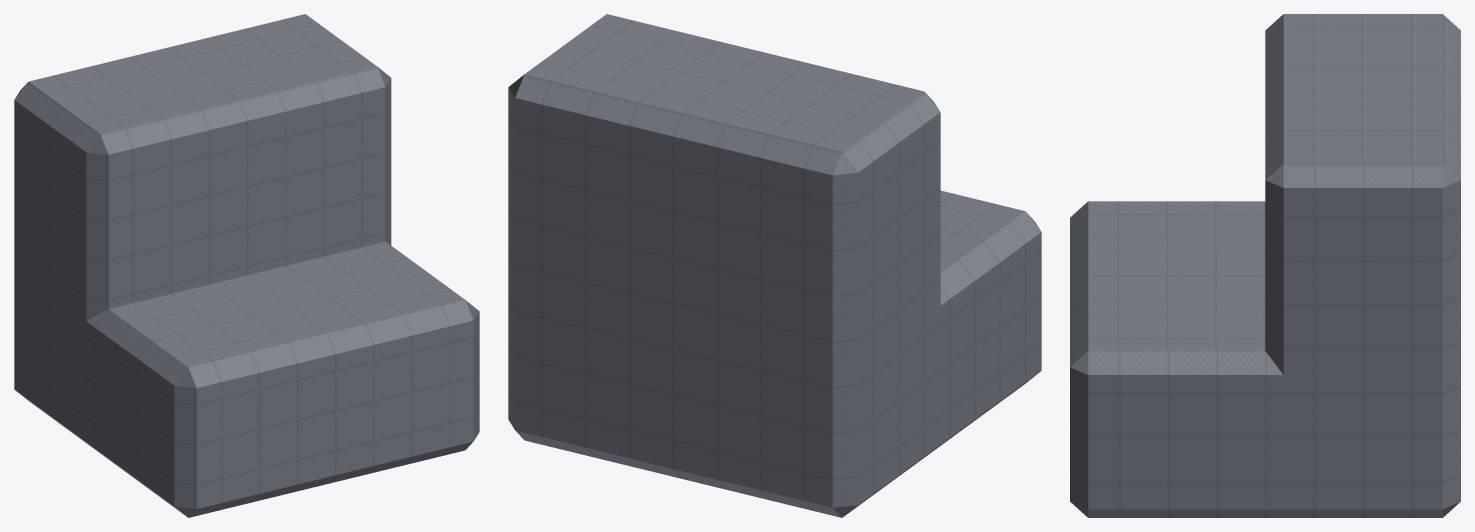
File: R4B_Step_LOD1.glb
The picture shows the model from 3 angles, left to right: view 1: azimuth 30°, elevation 25°; view 2: azimuth 150°, elevation 25°; view 3: azimuth 270°, elevation 25°; orthographic projection. The views are drawn at different scales.
Visible parts, largest first — view 1: R4B_Step_LOD1; view 2: R4B_Step_LOD1; view 3: R4B_Step_LOD1.
Part boxes in pixels (x1=…): R4B_Step_LOD1: x1=14, y1=14, x2=479, y2=517; R4B_Step_LOD1: x1=508, y1=14, x2=1041, y2=517; R4B_Step_LOD1: x1=1070, y1=14, x2=1460, y2=517.
Size of the model in its own units: 0.52 by 0.52 by 0.52.
Materials: 1 (1 with a texture image).
